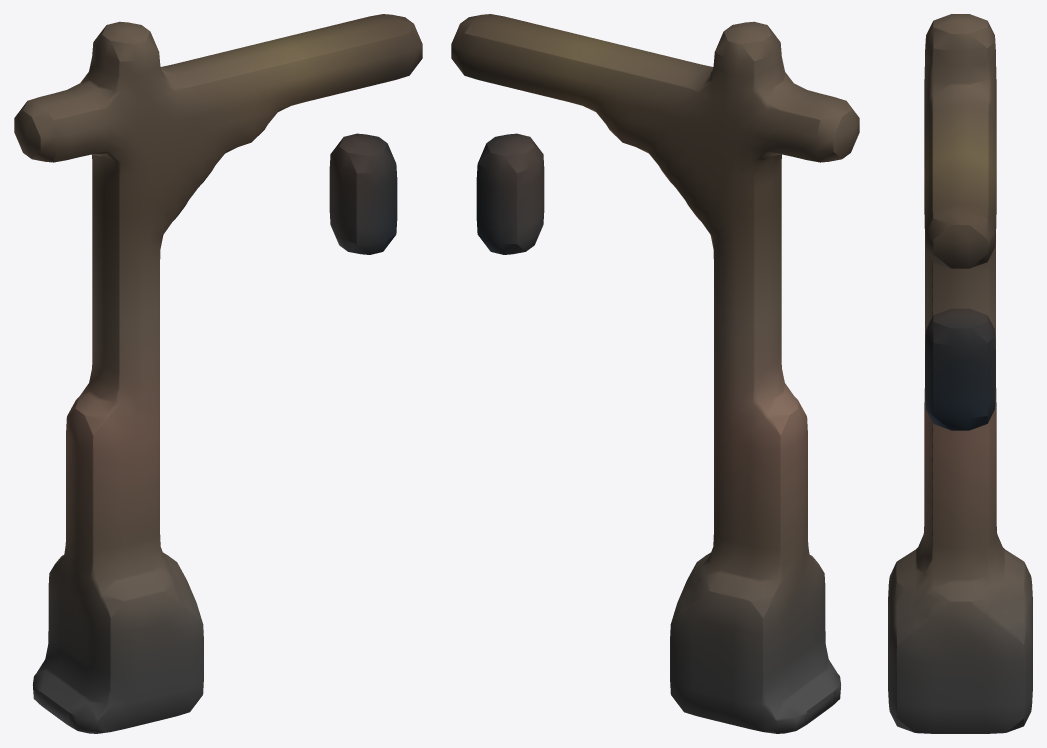
Rendered from Lantern_064B_voxs.glb.
3 views of the same model, side by side, from view 1: azimuth 30°, elevation 25°; view 2: azimuth 150°, elevation 25°; view 3: azimuth 270°, elevation 25° (orthographic). The views are drawn at different scales.
Bounding box in the file's own units: 1.21 × 2 × 0.375.
